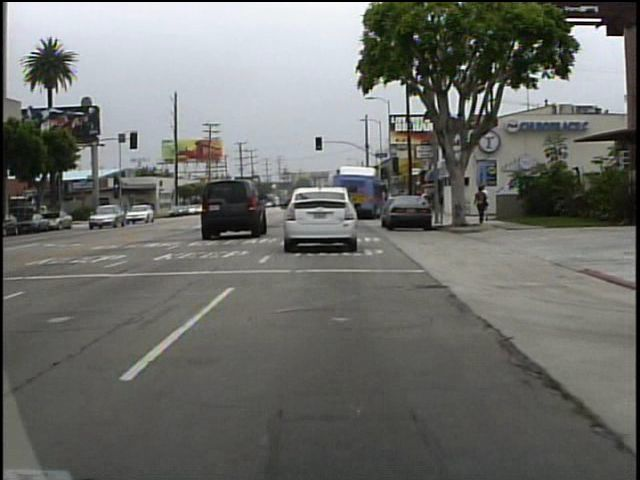person: (473, 182, 490, 226), (481, 182, 492, 223)
